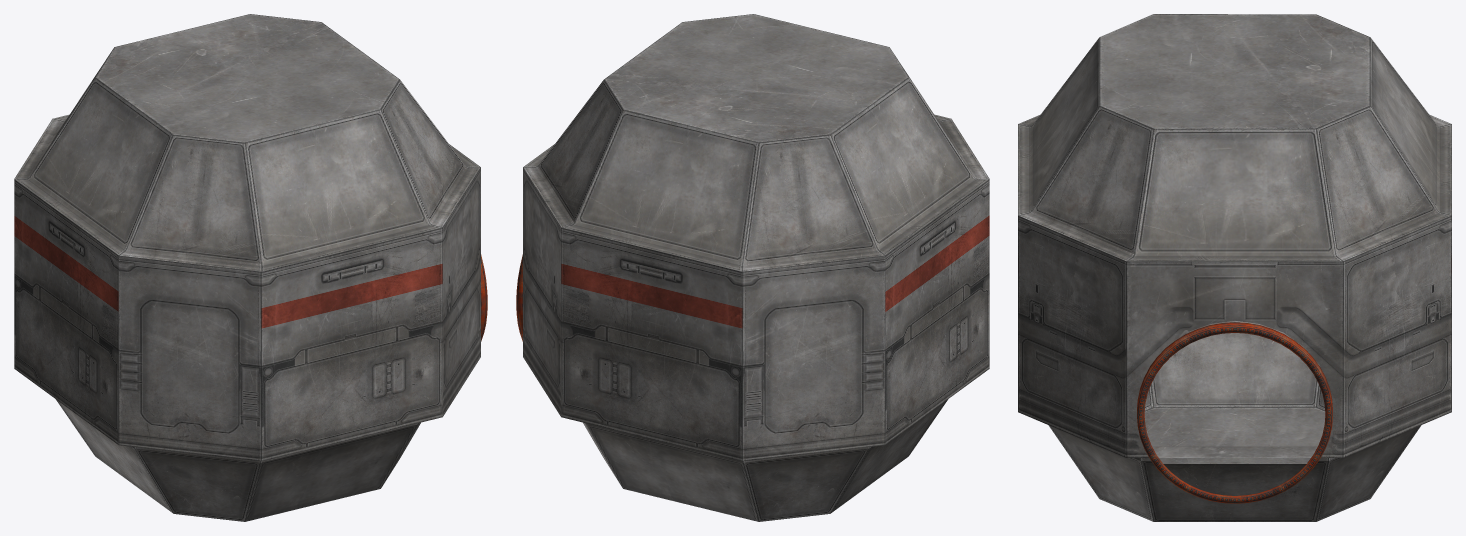
The model's file is tau_8sided_room_1door.dae.
3 renders of one model, left to right at view 1: azimuth 30°, elevation 25°; view 2: azimuth 150°, elevation 25°; view 3: azimuth 270°, elevation 25°, orthographic. The views are drawn at different scales.
Parts seen in each view (by area): view 1: polySurface380; view 2: polySurface380; view 3: polySurface380, pPipe68, polySurface375.
Boxes of the visible parts, box(x1,y1,x2,y2) form: polySurface380: box(14, 14, 480, 521); polySurface380: box(523, 14, 989, 521); polySurface380: box(1018, 14, 1451, 521); pPipe68: box(1137, 322, 1332, 503); polySurface375: box(1150, 321, 1319, 463).
Bounding box in the file's own units: 8.26 × 8 × 8.
